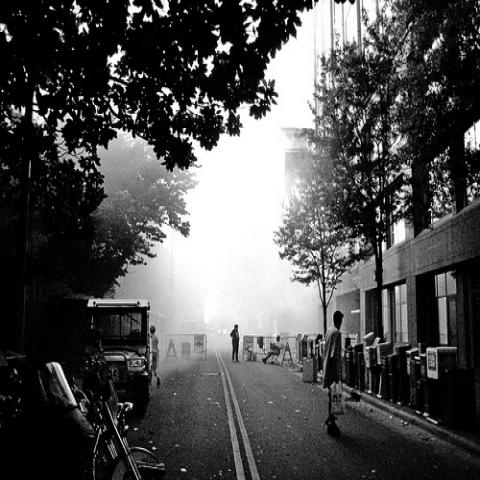motorcycle: (63, 329, 168, 479)
